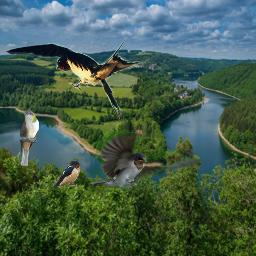Cuckoo: (19, 110, 39, 166)
Swallow: (3, 36, 165, 120), (90, 130, 202, 189), (51, 160, 82, 187)
